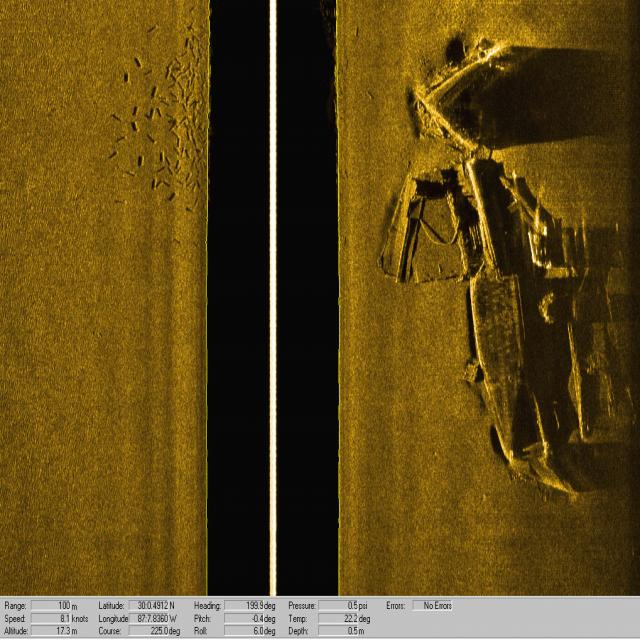ship: (421, 38, 620, 494)
